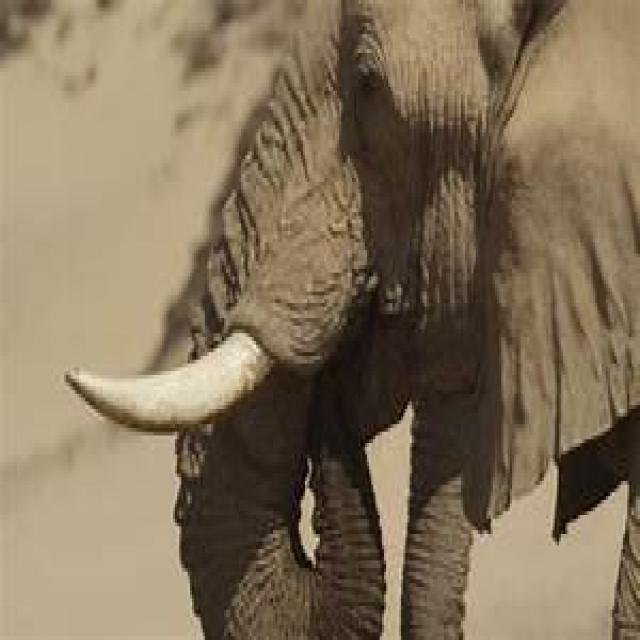elephant: (62, 0, 640, 640)
